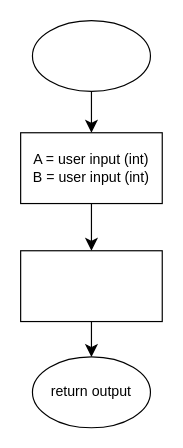
Image size: 183x448. Some labels were removed from this diagram. Here are the shapes that lost their labels. From the top down, the centre of each, then its label:
[90,55]: start
[90,286]: output = A squared + B
